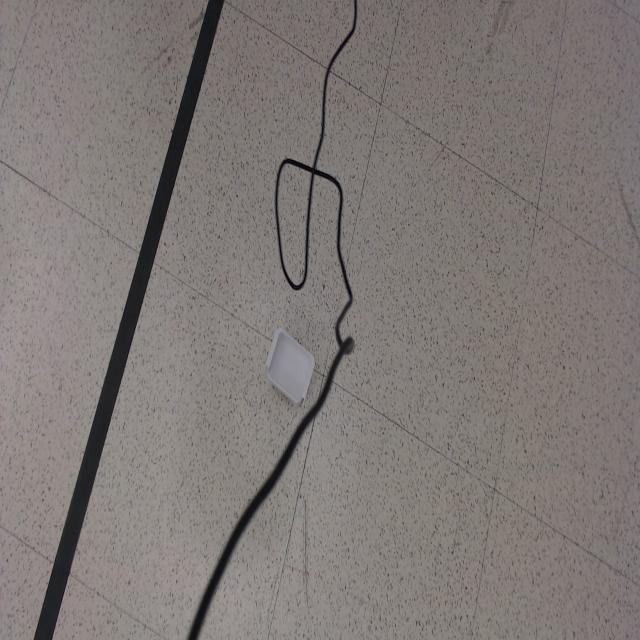wbox: (263, 326, 316, 408)
